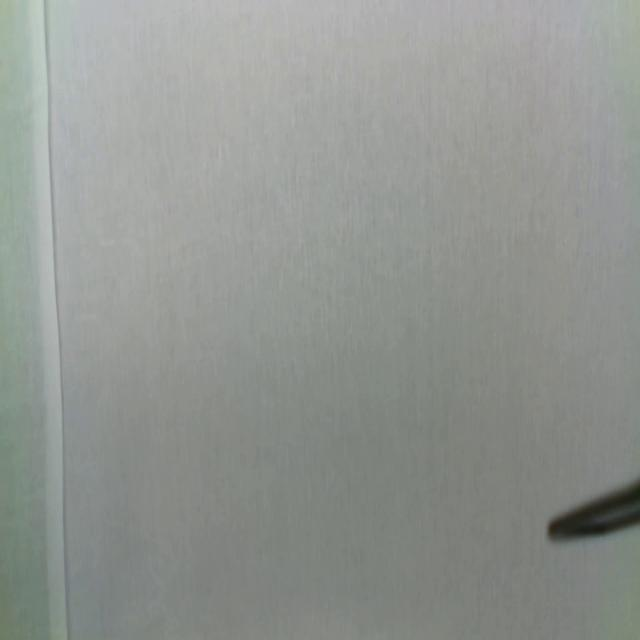crease: (42, 0, 69, 640)
